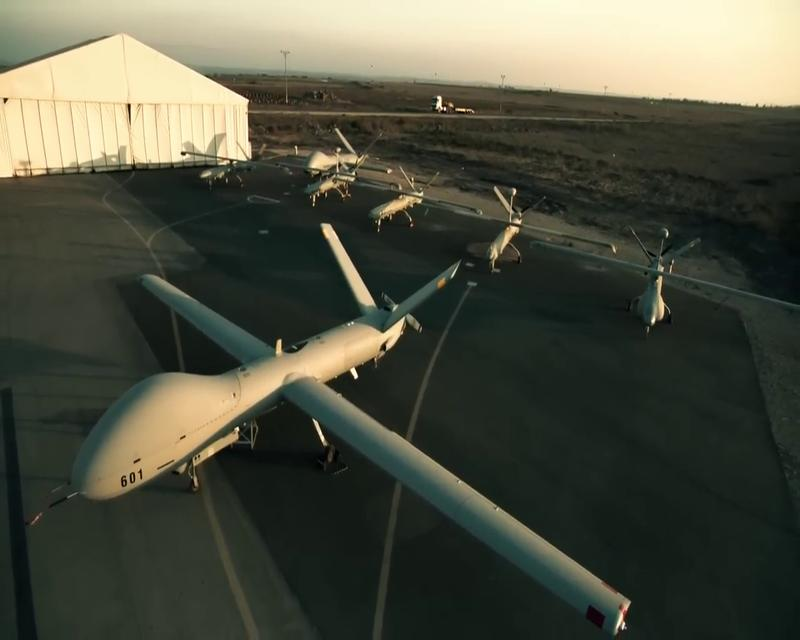UAV: (68, 223, 632, 635), (180, 141, 278, 191)
